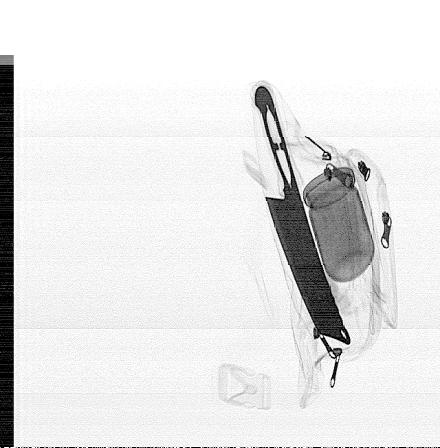Knife: (253, 84, 352, 347)
